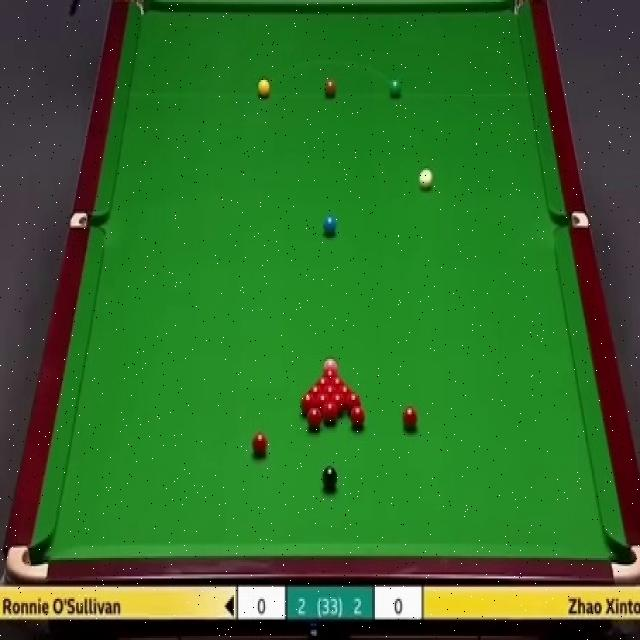black-ball: (321, 464, 336, 490)
blue-ball: (323, 216, 337, 234)
brown-ball: (324, 78, 337, 99)
green-ball: (388, 76, 402, 99)
pink-ball: (324, 359, 338, 373)
red-ball: (401, 406, 419, 434), (304, 406, 323, 430), (251, 432, 268, 458), (349, 406, 365, 429), (344, 392, 359, 414), (323, 401, 337, 423), (300, 393, 314, 415), (331, 394, 345, 415), (310, 384, 322, 397), (324, 370, 335, 382), (325, 386, 335, 398)
white-ball: (419, 167, 433, 192)
yellow-ball: (258, 78, 270, 99)
